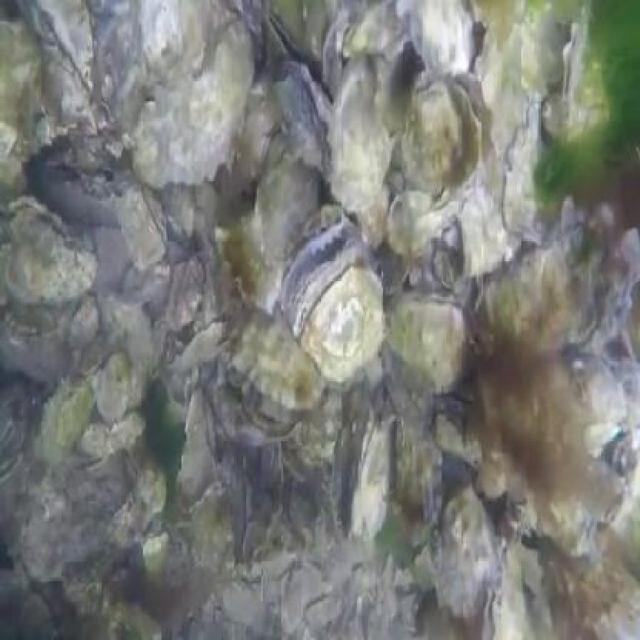Oyster-Closed: (387, 289, 475, 384), (274, 63, 338, 172), (561, 0, 609, 137), (352, 408, 396, 537), (482, 537, 531, 640), (0, 380, 30, 485), (143, 530, 171, 589)
Oyster-Indeterminate: (133, 20, 251, 188), (489, 206, 620, 348), (328, 53, 391, 204), (430, 484, 497, 617), (506, 102, 561, 242), (258, 135, 321, 256), (0, 17, 51, 164), (214, 208, 285, 308), (397, 0, 474, 78), (397, 422, 443, 530), (42, 377, 97, 464), (119, 187, 167, 268), (393, 192, 453, 251), (344, 0, 405, 58), (281, 560, 326, 632), (99, 350, 131, 417), (179, 260, 204, 321)
Oyster-Open: (283, 217, 390, 376), (403, 69, 496, 192), (228, 308, 321, 426), (0, 196, 96, 306), (264, 15, 332, 100)
